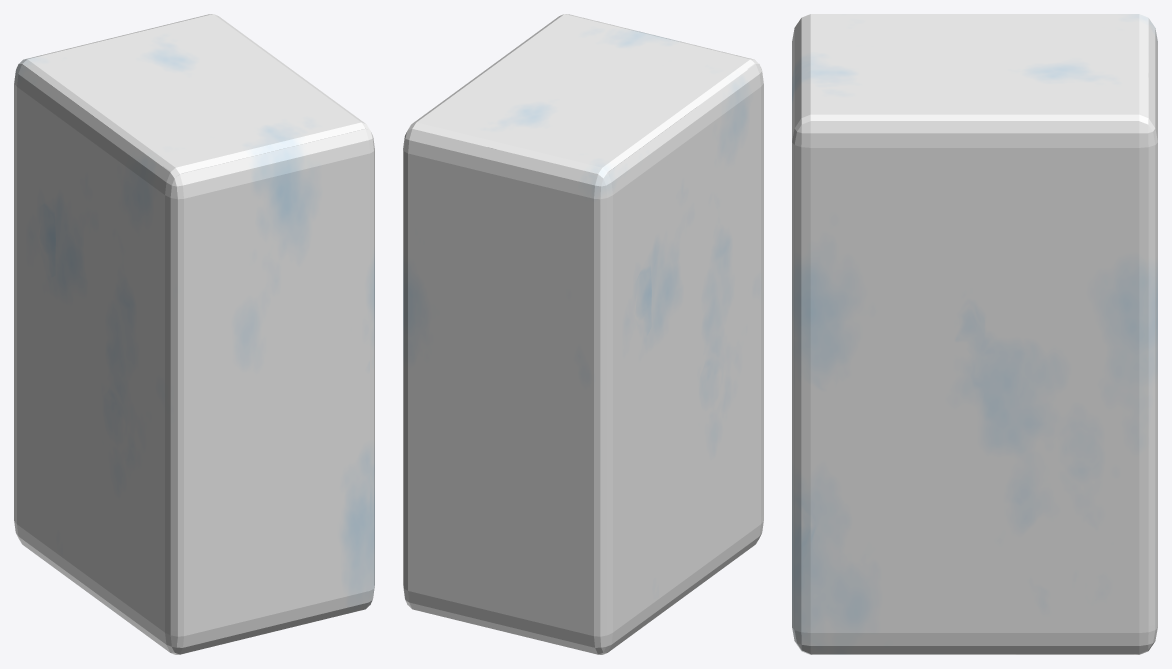
File: FetaPLEASESer.gltf
3 views of the same model, side by side, from view 1: azimuth 30°, elevation 25°; view 2: azimuth 150°, elevation 25°; view 3: azimuth 270°, elevation 25° (orthographic). The views are drawn at different scales.
Parts seen in each view (by area): view 1: Cube.003; view 2: Cube.003; view 3: Cube.003.
Part boxes in pixels (x1,y1,x2,y2): Cube.003: [14, 14, 374, 654]; Cube.003: [403, 14, 763, 654]; Cube.003: [792, 14, 1157, 654].
Bounding box in the file's own units: 0.4473 × 1.01 × 0.6173.
Materials: 1 (1 with a texture image).
